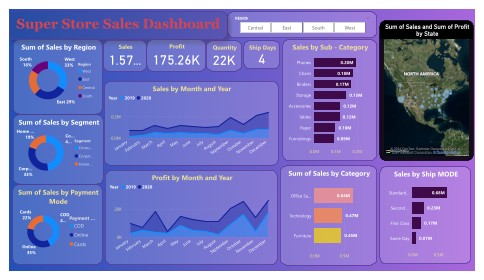

The dashboard page shown, as its layout file describes it:
{"tool":"powerbi","page":{"name":"Page 1","canvas":[1280,720],"ordinal":0},"visuals":[{"type":"clusteredBarChart","title":"Sum of Sales by Category","fields":{"Category":["SuperStore_Sales_Dataset.Category"],"Y":["Sum(SuperStore_Sales_Dataset.Sales)"]},"box":[743.7,429.5,266.2,274.4],"z":0},{"type":"clusteredBarChart","title":"Sales by Sub - Category","fields":{"Category":["SuperStore_Sales_Dataset.Sub-Category"],"Y":["Sum(SuperStore_Sales_Dataset.Sales)"]},"box":[750,83.8,259.6,333.8],"z":1000},{"type":"clusteredBarChart","title":"Sales by Ship MODE","fields":{"Y":["Sum(SuperStore_Sales_Dataset.Sales)"],"Category":["SuperStore_Sales_Dataset.Ship Mode"]},"box":[1016.8,432.2,251.1,269],"z":2000},{"type":"stackedAreaChart","title":"Sales by Month and Year","fields":{"Y":["Sum(SuperStore_Sales_Dataset.Sales)"],"Category":["SuperStore_Sales_Dataset.Order Date.Variation.Date Hierarchy.Month","SuperStore_Sales_Dataset.Order Date.Variation.Date Hierarchy.Day"],"Series":["SuperStore_Sales_Dataset.Order Date.Variation.Date Hierarchy.Year"]},"box":[261,197.8,479.4,232.2],"z":3000},{"type":"stackedAreaChart","title":"Profit by Month and Year","fields":{"Category":["SuperStore_Sales_Dataset.Order Date.Variation.Date Hierarchy.Month","SuperStore_Sales_Dataset.Order Date.Variation.Date Hierarchy.Day"],"Series":["SuperStore_Sales_Dataset.Order Date.Variation.Date Hierarchy.Year"],"Y":["Sum(SuperStore_Sales_Dataset.Profit)"]},"box":[263.7,442.3,473.9,261],"z":4000},{"type":"map","title":"Sum of Sales and Sum of Profit by State","fields":{"Category":["SuperStore_Sales_Dataset.State"],"Size":["Sum(SuperStore_Sales_Dataset.Sales)"]},"box":[1016.8,31.6,258,385.6],"z":5000},{"type":"donutChart","fields":{"Category":["SuperStore_Sales_Dataset.Segment"],"Y":["Sum(SuperStore_Sales_Dataset.Sales)"]},"box":[11,289.8,248.6,192.3],"z":6000},{"type":"donutChart","fields":{"Y":["Sum(SuperStore_Sales_Dataset.Sales)"],"Category":["SuperStore_Sales_Dataset.Payment Mode"]},"box":[9.6,482.2,248.6,219.8],"z":7000},{"type":"slicer","fields":{"Values":["SuperStore_Sales_Dataset.Region"]},"box":[600.3,6.9,409.4,74.2],"z":8000},{"type":"textbox","box":[0,6.9,600.3,78.3],"z":9000},{"type":"card","title":"Sales","fields":{"Values":["Sum(SuperStore_Sales_Dataset.Sales)"]},"box":[258.3,85.2,120.9,87.9],"z":10000},{"type":"card","title":"Profit","fields":{"Values":["Sum(SuperStore_Sales_Dataset.Profit)"]},"box":[377.8,83.8,163.5,89.3],"z":11000},{"type":"card","title":"Quantity","fields":{"Values":["Sum(SuperStore_Sales_Dataset.Quantity)"]},"box":[541.2,86.5,98.9,85.2],"z":12000},{"type":"card","title":"Ship Days","fields":{"Values":["Avg(SuperStore_Sales_Dataset.AvgDelivery)"]},"box":[642.9,86.5,101.7,78.3],"z":13000},{"type":"donutChart","fields":{"Category":["SuperStore_Sales_Dataset.Region"],"Y":["Sum(SuperStore_Sales_Dataset.Sales)"]},"box":[12.4,83.8,245.9,206.1],"z":13001}]}

Visuals, with their boxes on the page's 1280x720 design canvas (x1, y1, x2, y2). These are canvas units, not pixel positions in the 484x280 screenshot, which may show the page scaled, cropped or inside an application window:
"Sum of Sales by Category" clusteredBarChart: [x1=744, y1=430, x2=1010, y2=704]
"Sales by Sub - Category" clusteredBarChart: [x1=750, y1=84, x2=1010, y2=418]
"Sales by Ship MODE" clusteredBarChart: [x1=1017, y1=432, x2=1268, y2=701]
"Sales by Month and Year" stackedAreaChart: [x1=261, y1=198, x2=740, y2=430]
"Profit by Month and Year" stackedAreaChart: [x1=264, y1=442, x2=738, y2=703]
"Sum of Sales and Sum of Profit by State" map: [x1=1017, y1=32, x2=1275, y2=417]
donutChart - SuperStore_Sales_Dataset.Segment x Sum(SuperStore_Sales_Dataset.Sales): [x1=11, y1=290, x2=260, y2=482]
donutChart - Sum(SuperStore_Sales_Dataset.Sales) x SuperStore_Sales_Dataset.Payment Mode: [x1=10, y1=482, x2=258, y2=702]
slicer - SuperStore_Sales_Dataset.Region: [x1=600, y1=7, x2=1010, y2=81]
textbox: [x1=0, y1=7, x2=600, y2=85]
"Sales" card: [x1=258, y1=85, x2=379, y2=173]
"Profit" card: [x1=378, y1=84, x2=541, y2=173]
"Quantity" card: [x1=541, y1=86, x2=640, y2=172]
"Ship Days" card: [x1=643, y1=86, x2=745, y2=165]
donutChart - SuperStore_Sales_Dataset.Region x Sum(SuperStore_Sales_Dataset.Sales): [x1=12, y1=84, x2=258, y2=290]
